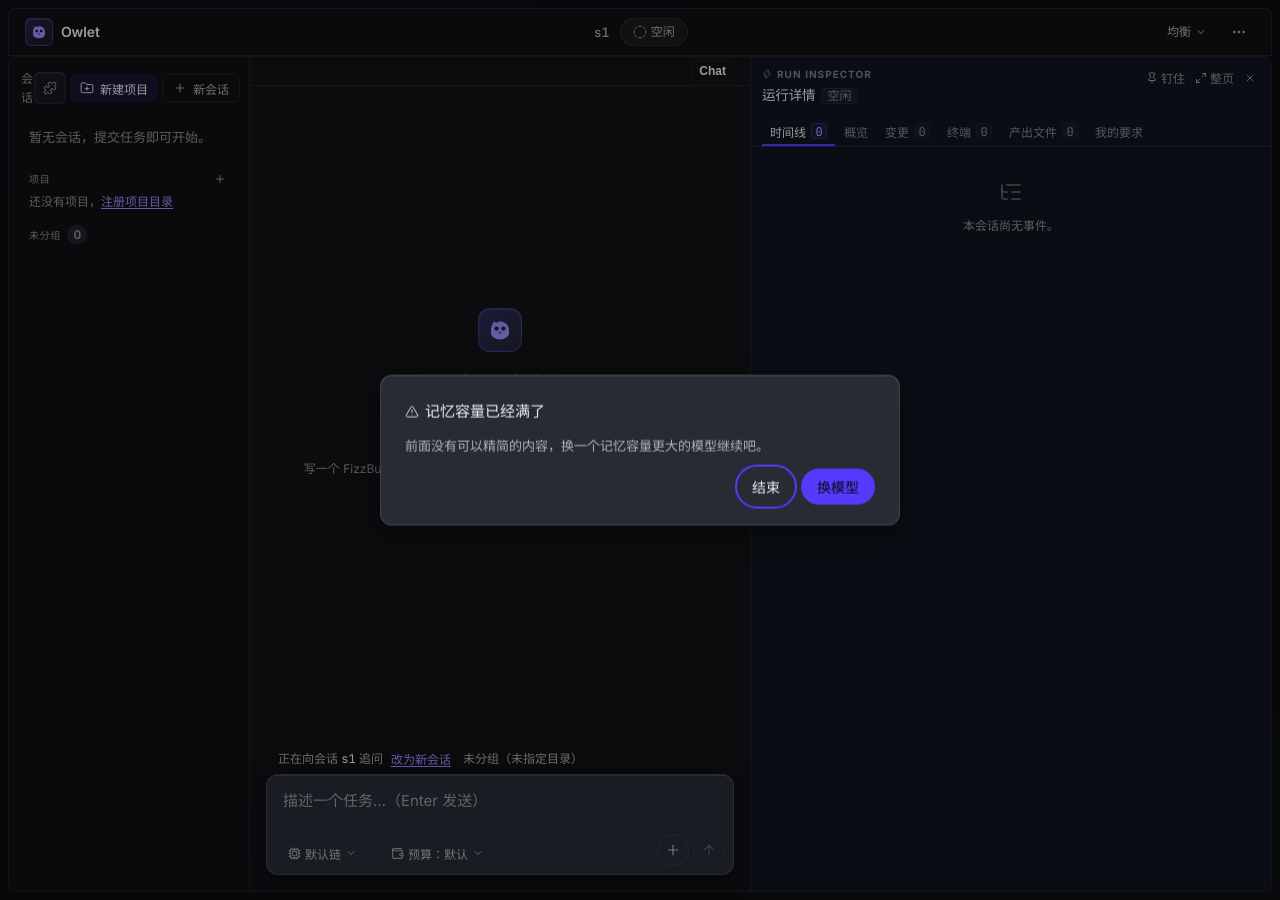
Test: #1197 项 2 — 上下文满时走一句话弹窗，不走技术屏 › 「结束」收起这一屏（不假装能终止 run——后端没有那个动作）
Click the button "结束".
click(766, 486)  # box [739,468,793,504]
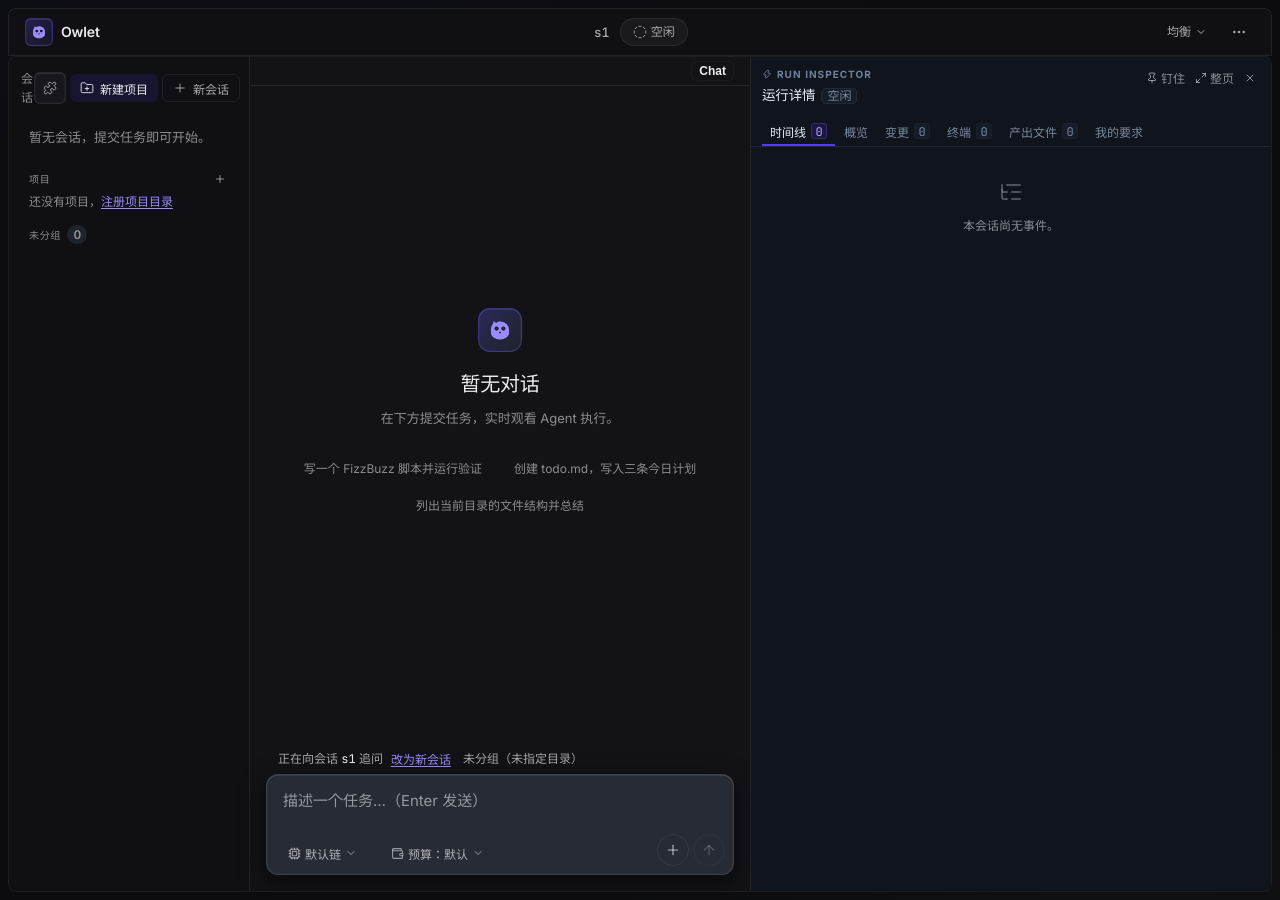
Expected: the text "记忆容量已经满了" is gone
